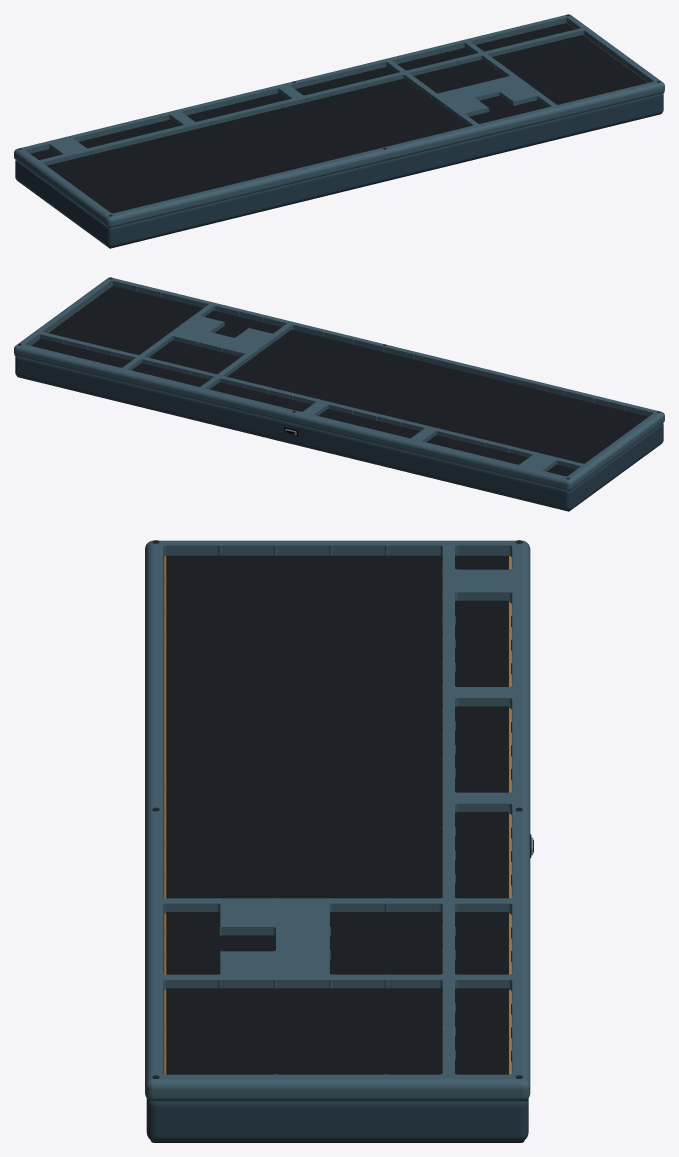
The model's file is ansi-108.glb.
3 views of the same model, one above another, from view 1: azimuth 30°, elevation 25°; view 2: azimuth 150°, elevation 25°; view 3: azimuth 270°, elevation 25° (orthographic). The views are drawn at different scales.
Visible parts, largest first — view 1: KeybedShadow, TopFrame, CaseBody, BottomEdge; view 2: KeybedShadow, TopFrame, CaseBody, BottomEdge; view 3: KeybedShadow, TopFrame, CaseBody, Plate.
Boxes of the visible parts, <box> form: KeybedShadow: <box>30,23,647,213</box>; TopFrame: <box>14,14,664,227</box>; CaseBody: <box>15,93,663,247</box>; BottomEdge: <box>18,113,661,248</box>; KeybedShadow: <box>31,286,648,476</box>; TopFrame: <box>14,277,664,490</box>; CaseBody: <box>15,356,663,510</box>; BottomEdge: <box>17,376,660,511</box>; KeybedShadow: <box>166,555,508,1074</box>; TopFrame: <box>145,540,530,1101</box>; CaseBody: <box>146,564,528,1141</box>; Plate: <box>163,556,511,1074</box>.
Size of the model in its own units: 0.4416 by 0.0263 by 0.1333.
